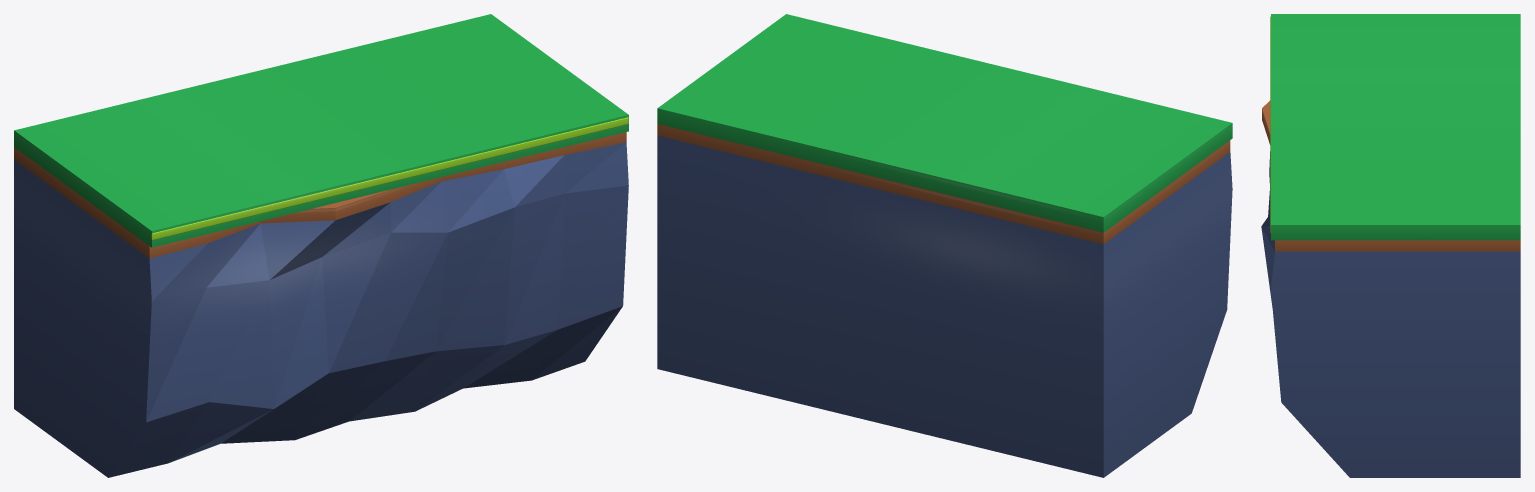
The model's file is CliffStraightA.fbx.
The picture shows the model from 3 angles, left to right: view 1: azimuth 30°, elevation 25°; view 2: azimuth 150°, elevation 25°; view 3: azimuth 270°, elevation 25°; orthographic projection. The views are drawn at different scales.
Visible parts, largest first — view 1: CliffStraightA; view 2: CliffStraightA; view 3: CliffStraightA.
Boxes of the visible parts, x1=… form: CliffStraightA: x1=14, y1=14, x2=628, y2=477; CliffStraightA: x1=657, y1=14, x2=1232, y2=477; CliffStraightA: x1=1261, y1=14, x2=1520, y2=477.
Size of the model in its own units: 24 by 13.4 by 12.46.
Materials: 1 (1 with a texture image).
